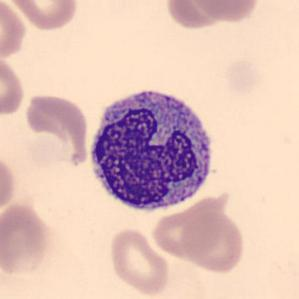Monocyte: (84, 81, 220, 220)
RBC: (160, 0, 264, 56), (18, 92, 91, 168), (107, 225, 172, 298), (179, 209, 247, 275), (0, 200, 55, 277), (5, 0, 80, 32), (164, 1, 238, 31), (220, 56, 268, 98), (188, 0, 262, 25), (0, 52, 27, 119), (0, 0, 28, 63), (0, 151, 18, 219)
